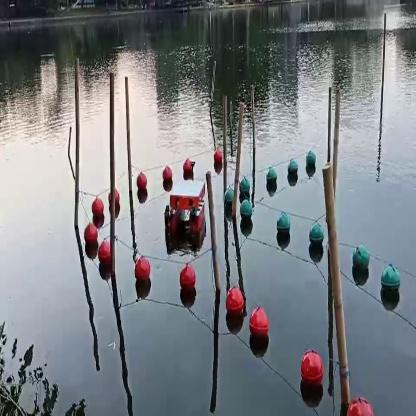green_buoy: (378, 264, 400, 306), (348, 242, 370, 276), (308, 223, 327, 254), (263, 166, 280, 195), (276, 212, 289, 244), (288, 156, 302, 185), (221, 182, 233, 210), (241, 200, 255, 223), (305, 148, 318, 172), (242, 179, 250, 197)
red_buoy: (300, 346, 321, 386), (224, 280, 245, 318), (250, 306, 268, 340), (180, 260, 196, 290), (89, 194, 106, 222), (136, 254, 150, 282), (348, 399, 370, 415), (160, 166, 174, 191), (184, 156, 196, 182), (86, 223, 98, 249), (100, 242, 110, 268), (212, 146, 223, 168), (137, 174, 146, 186)
